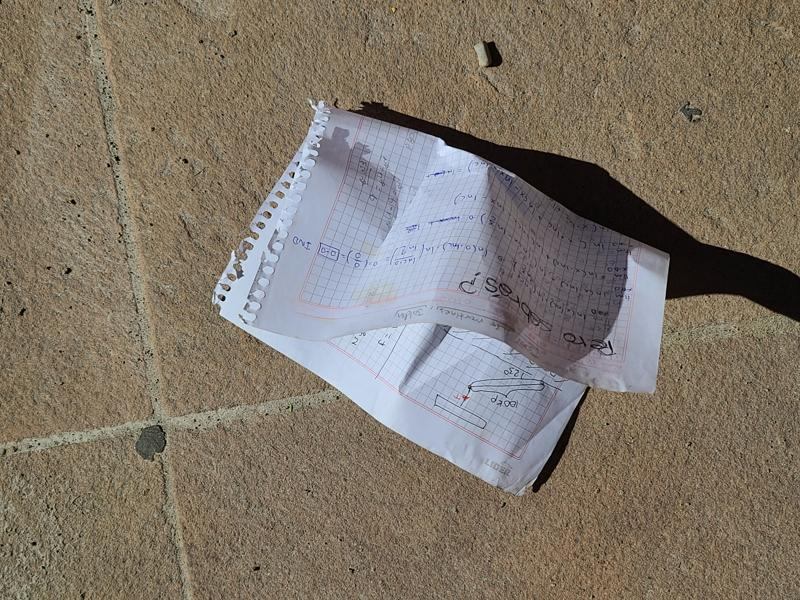papel: (212, 102, 670, 497)
